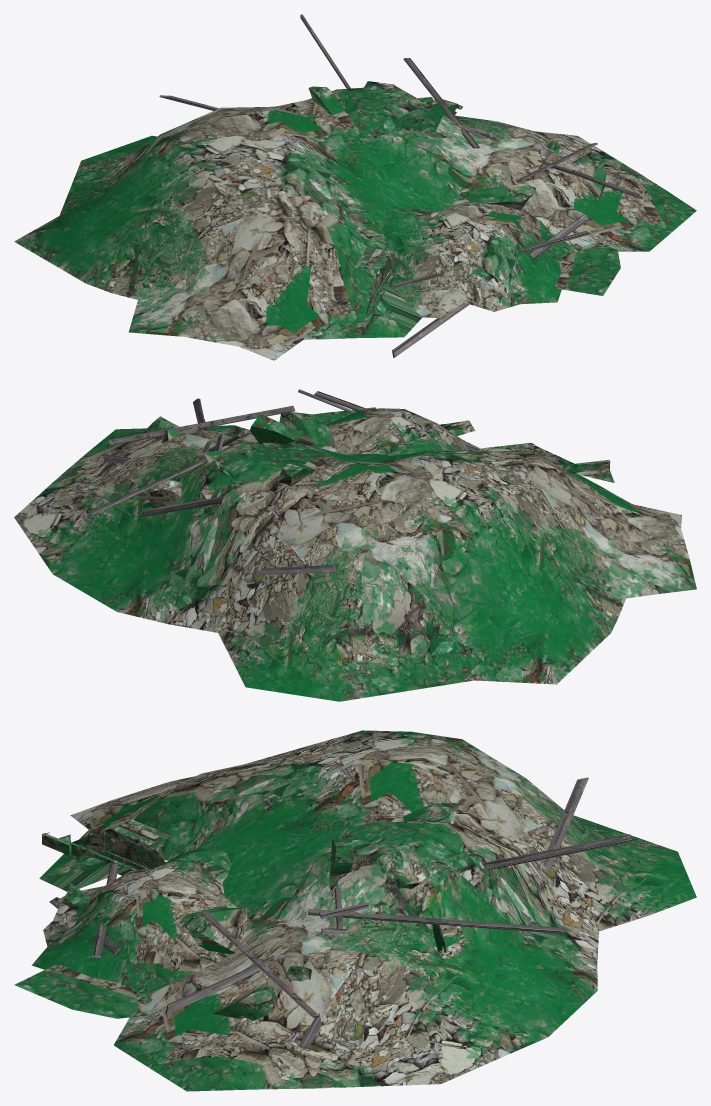
The model's file is shut3.fbx.
The picture shows the model from 3 angles, top to bottom: view 1: azimuth 30°, elevation 25°; view 2: azimuth 150°, elevation 25°; view 3: azimuth 270°, elevation 25°; orthographic projection. The views are drawn at different scales.
Parts seen in each view (by area): view 1: shutt3; view 2: shutt3; view 3: shutt3.
Part boxes in pixels (<box>): shutt3: <box>14,14,696,360</box>; shutt3: <box>14,389,696,701</box>; shutt3: <box>14,730,696,1091</box>.
Bounding box in the file's own units: 376 × 84.81 × 337.
